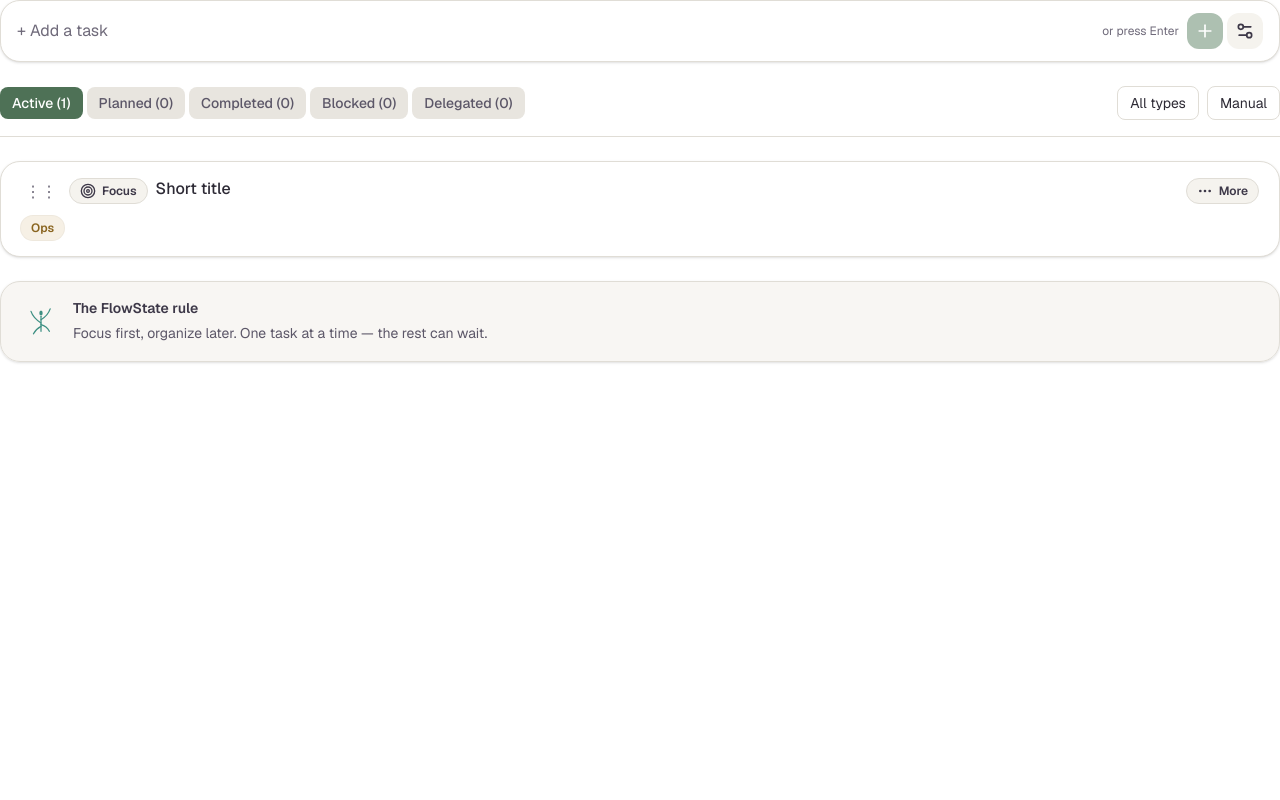
Test: TaskList › carries the quick-add input text into the add-task modal title
Type "Drafted title" into the field with placeholder "+ Add a task".
click(556, 31); type("Drafted title")  # box [17,15,1094,47]
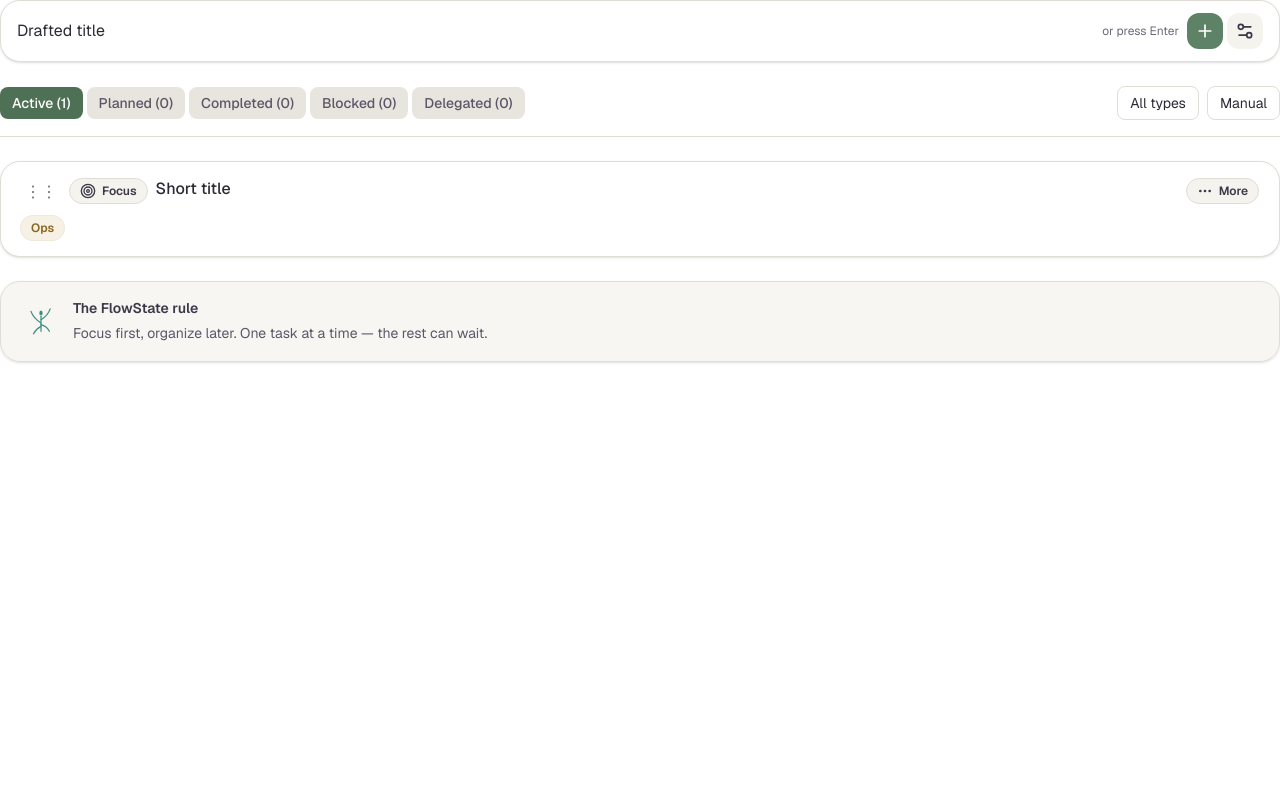
Click the button with test id "open-add-task-modal".
click(1245, 31)  # box [1227,13,1263,49]
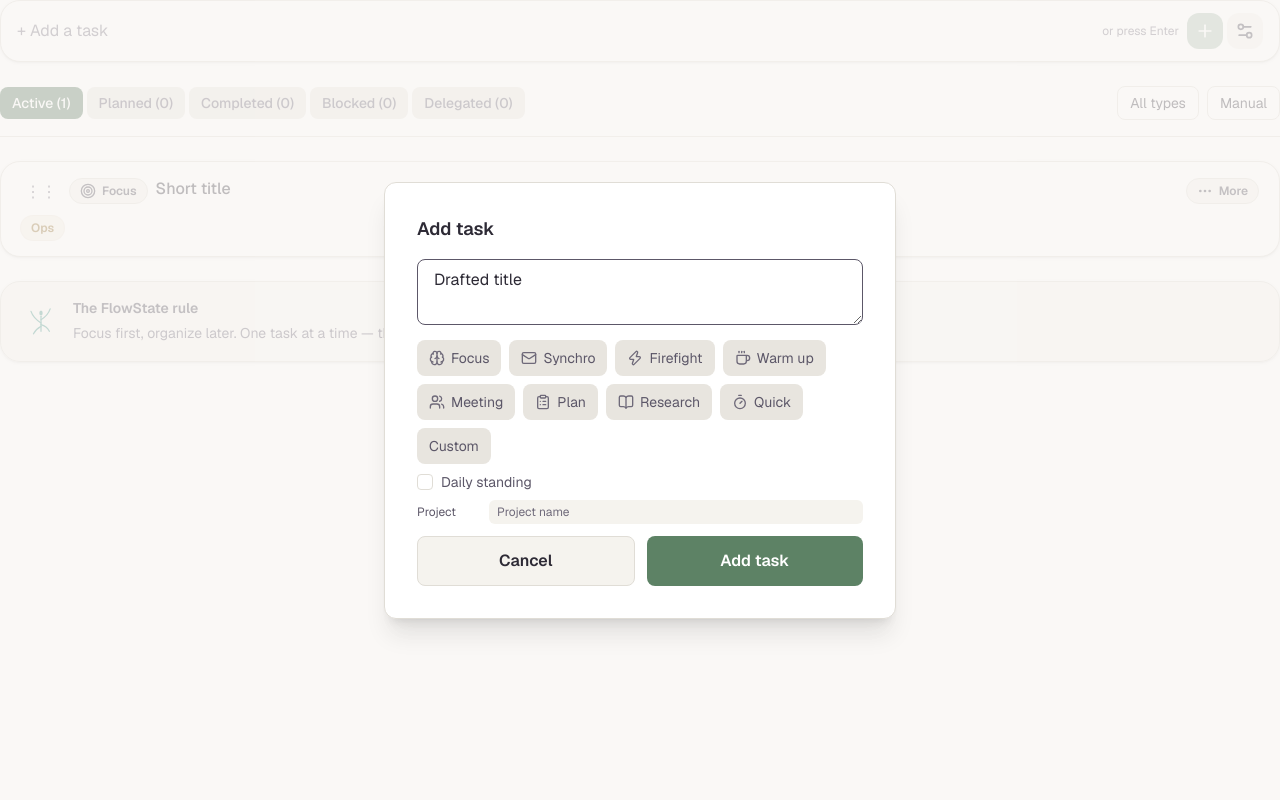
expect the text box with test id "task-fields-title" holds "Drafted title": met, box [417,258,863,324]
expect the field with placeholder "+ Add a task" is empty: met, box [17,15,1094,47]
